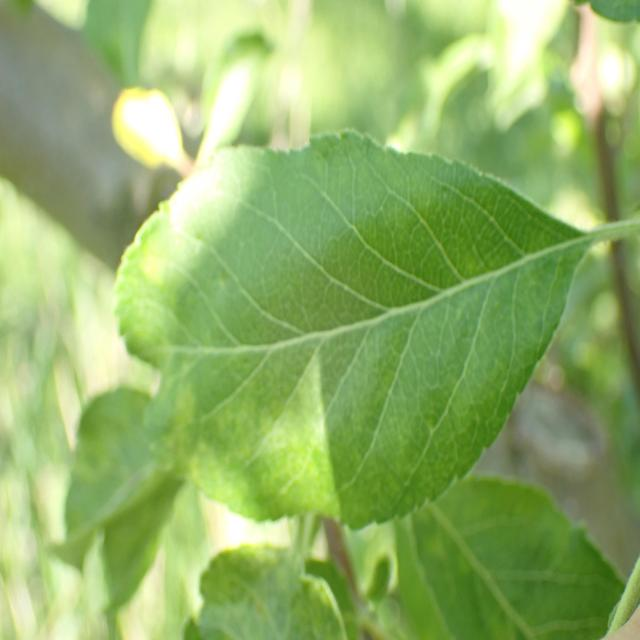scab: (134, 193, 581, 445)
